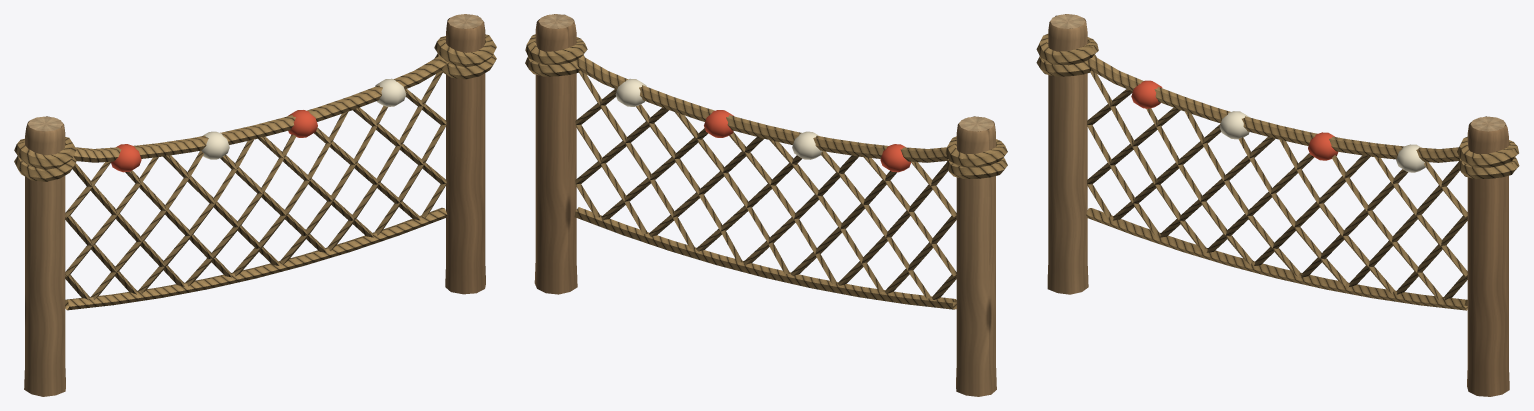
Rendered from rope-net.glb.
The picture shows the model from 3 angles, left to right: view 1: azimuth 30°, elevation 25°; view 2: azimuth 150°, elevation 25°; view 3: azimuth 330°, elevation 25°; orthographic projection.
Parts seen in each view (by area): view 1: rope-net; view 2: rope-net; view 3: rope-net.
Part boxes in pixels (x1,y1,x2,y2): rope-net: (14,14,496,396); rope-net: (525,14,1007,396); rope-net: (1036,14,1519,396).
Size of the model in its own units: 2.26 by 1.2 by 0.2585.
3 materials, 2 textured.
